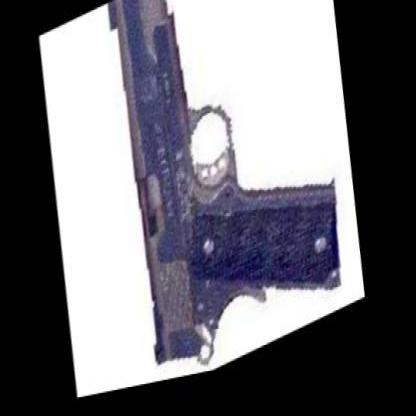pistol: (90, 0, 358, 397)
